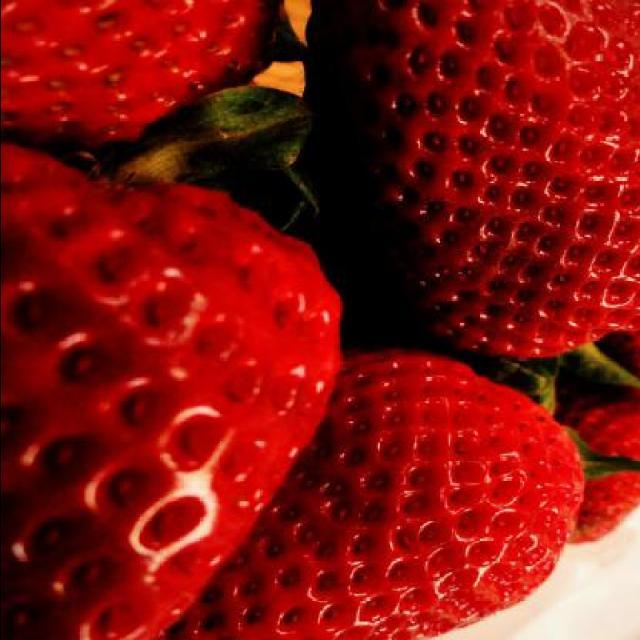Strawberry: (0, 141, 337, 640), (309, 0, 640, 357), (202, 344, 582, 620), (1, 0, 282, 151), (552, 378, 640, 544)
